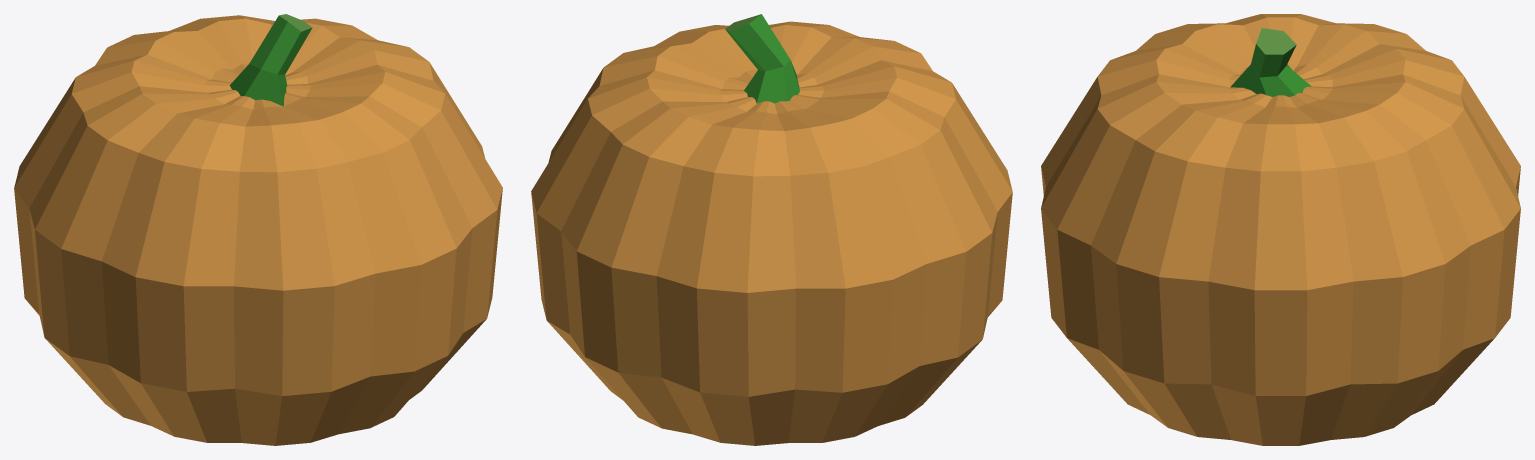
File: pumpkin_1_mat.fbx
3 renders of one model, left to right at view 1: azimuth 30°, elevation 25°; view 2: azimuth 150°, elevation 25°; view 3: azimuth 270°, elevation 25°, orthographic.
Visible parts, largest first — view 1: pumpkin_1_mat; view 2: pumpkin_1_mat; view 3: pumpkin_1_mat.
Boxes of the visible parts, bbox=[...] form: pumpkin_1_mat: bbox=[14, 14, 502, 445]; pumpkin_1_mat: bbox=[531, 14, 1012, 445]; pumpkin_1_mat: bbox=[1041, 14, 1520, 445].
Size of the model in its own units: 226 by 183 by 223.
